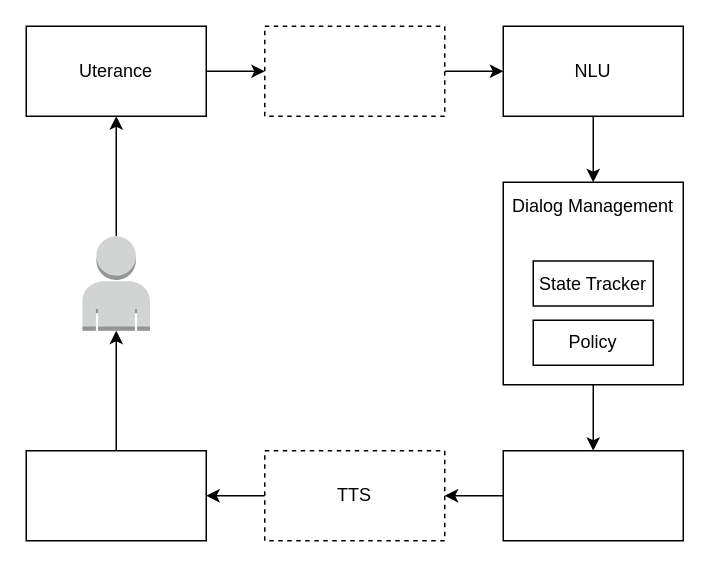
The diagram is 710 pixels wide and 567 high, and some of its shapes have lost their labels. Each missing label, with the centre of its shape:
"ASR" belongs at (x=354, y=70).
"NLG" belongs at (x=592, y=495).
"Utterance" belongs at (x=115, y=495).
